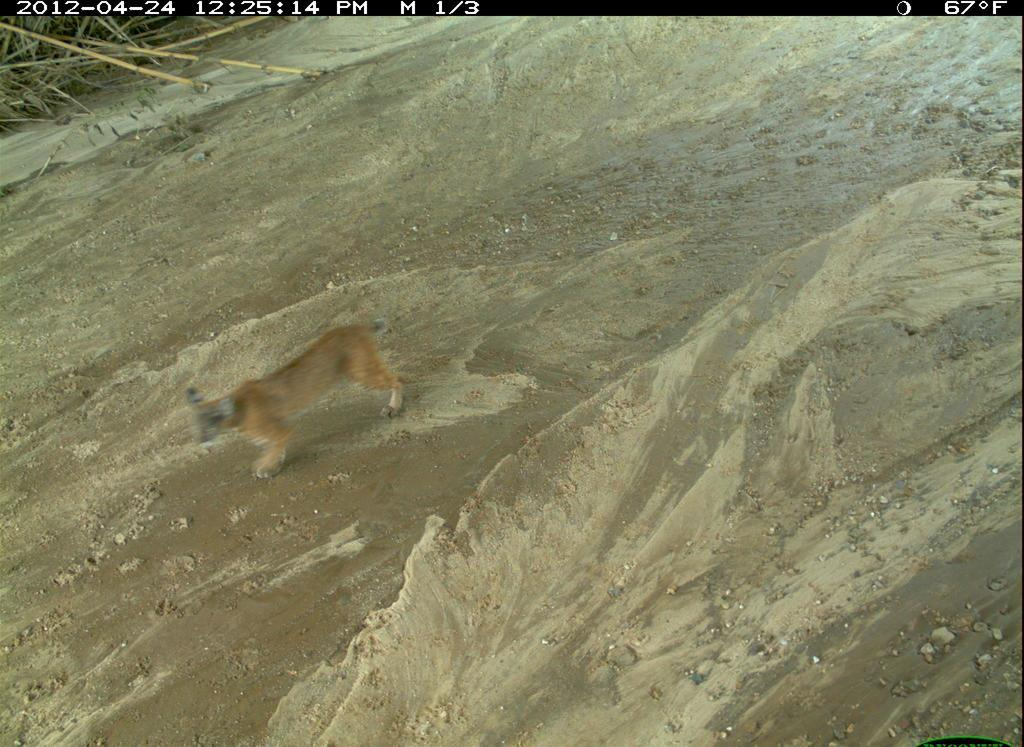bobcat: (364, 628, 815, 747)
